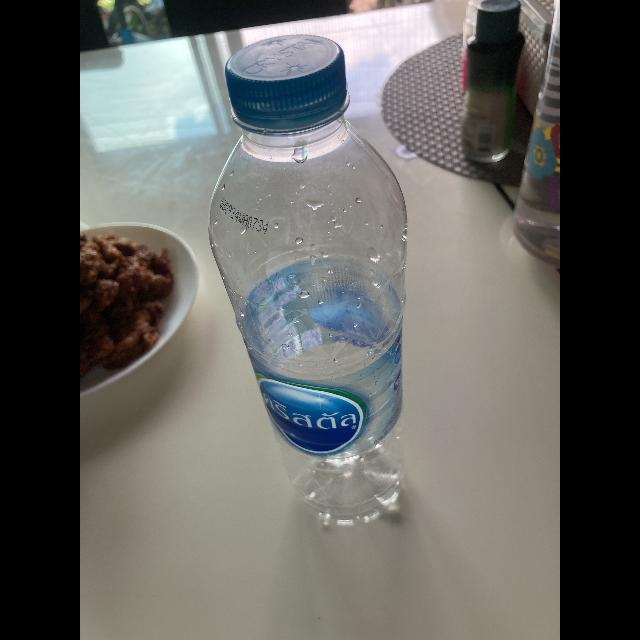plastic_bottle: (203, 29, 407, 534), (516, 0, 560, 272), (462, 1, 526, 170)
plastic_bottle_cap: (228, 36, 350, 132), (476, 0, 520, 36)
